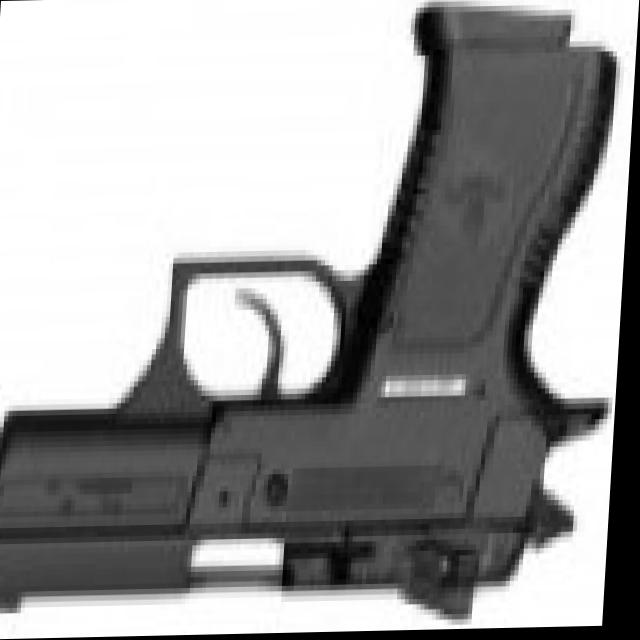handgun: (0, 5, 623, 640)
